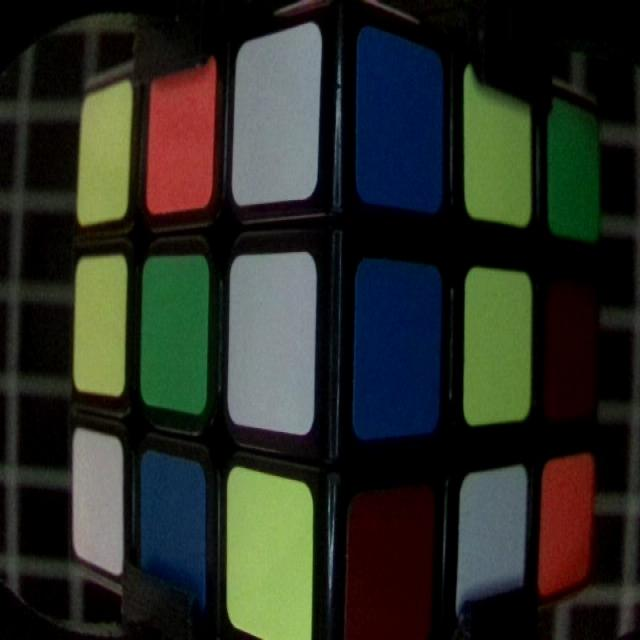b: (357, 256, 437, 433), (359, 33, 434, 208), (143, 453, 204, 611)
g: (143, 260, 206, 409), (550, 107, 596, 228)
o: (149, 70, 211, 210), (540, 464, 594, 589)
r: (347, 496, 427, 640), (549, 285, 595, 404)
w: (233, 252, 314, 433), (238, 45, 316, 200), (457, 474, 524, 614), (75, 429, 121, 563)
y: (227, 469, 311, 640), (464, 69, 531, 219), (465, 276, 533, 417), (76, 257, 124, 388), (80, 95, 127, 217)
